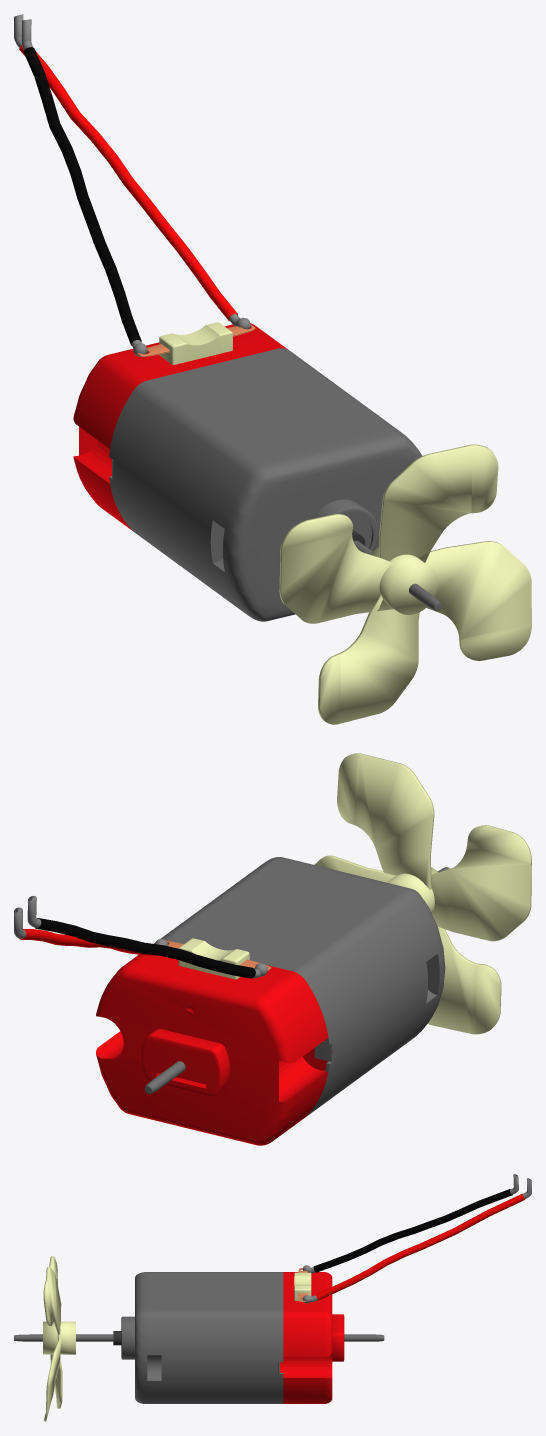
The model's file is motor_aspas.fbx.
3 renders of one model, top to bottom at view 1: azimuth 30°, elevation 25°; view 2: azimuth 150°, elevation 25°; view 3: azimuth 270°, elevation 25°, orthographic. The views are drawn at different scales.
Parts seen in each view (by area): view 1: CilindroMetal, aspa_cilindro, CilindroRojo, Cilindro_negro_ext_32, Cilindro_rojo_ext_32, ContactoCubo, Cilindro00; view 2: CilindroMetal, CilindroRojo, aspa_cilindro, Cilindro, Cilindro_negro_ext_32, ContactoCubo, Cilindro_rojo_ext_32, Cilindro03; view 3: CilindroMetal, CilindroRojo, aspa_cilindro, Cilindro_rojo_ext_32, Cilindro_negro_ext_32, Cilindro, Cilindro00, Cilindro02, ContactoCubo, Cilindro03.
Boxes of the visible parts, bbox=[...] form: CilindroMetal: bbox=[109, 348, 422, 621]; aspa_cilindro: bbox=[279, 444, 531, 724]; CilindroRojo: bbox=[73, 323, 287, 531]; Cilindro_negro_ext_32: bbox=[23, 47, 141, 345]; Cilindro_rojo_ext_32: bbox=[19, 45, 237, 321]; ContactoCubo: bbox=[159, 322, 232, 364]; Cilindro00: bbox=[312, 499, 378, 551]; CilindroMetal: bbox=[160, 857, 445, 1116]; CilindroRojo: bbox=[96, 940, 332, 1145]; aspa_cilindro: bbox=[314, 753, 531, 1034]; Cilindro: bbox=[141, 1028, 229, 1096]; Cilindro_negro_ext_32: bbox=[34, 918, 255, 978]; ContactoCubo: bbox=[178, 938, 249, 979]; Cilindro_rojo_ext_32: bbox=[19, 929, 156, 955]; Cilindro03: bbox=[144, 1061, 185, 1093]; CilindroMetal: bbox=[135, 1272, 283, 1403]; CilindroRojo: bbox=[280, 1272, 332, 1403]; aspa_cilindro: bbox=[43, 1256, 75, 1421]; Cilindro_rojo_ext_32: bbox=[315, 1193, 525, 1300]; Cilindro_negro_ext_32: bbox=[313, 1189, 512, 1272]; Cilindro: bbox=[332, 1314, 344, 1361]; Cilindro00: bbox=[121, 1316, 134, 1359]; Cilindro02: bbox=[14, 1334, 113, 1341]; ContactoCubo: bbox=[294, 1272, 311, 1300]; Cilindro03: bbox=[344, 1334, 384, 1341].
Size of the model in its own units: 233 by 372 by 722.
